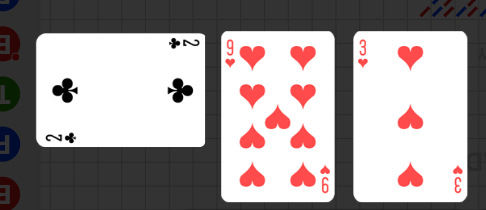2C: (44, 130, 79, 144)
3H: (451, 162, 464, 194)
9H: (224, 38, 237, 69)
